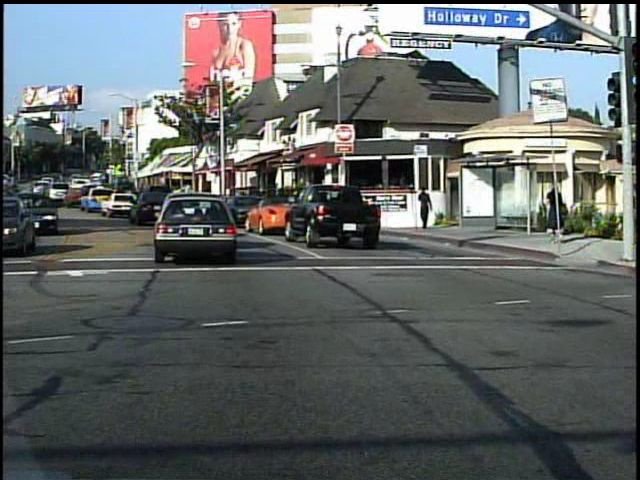person: (541, 178, 570, 252), (416, 185, 433, 235)
